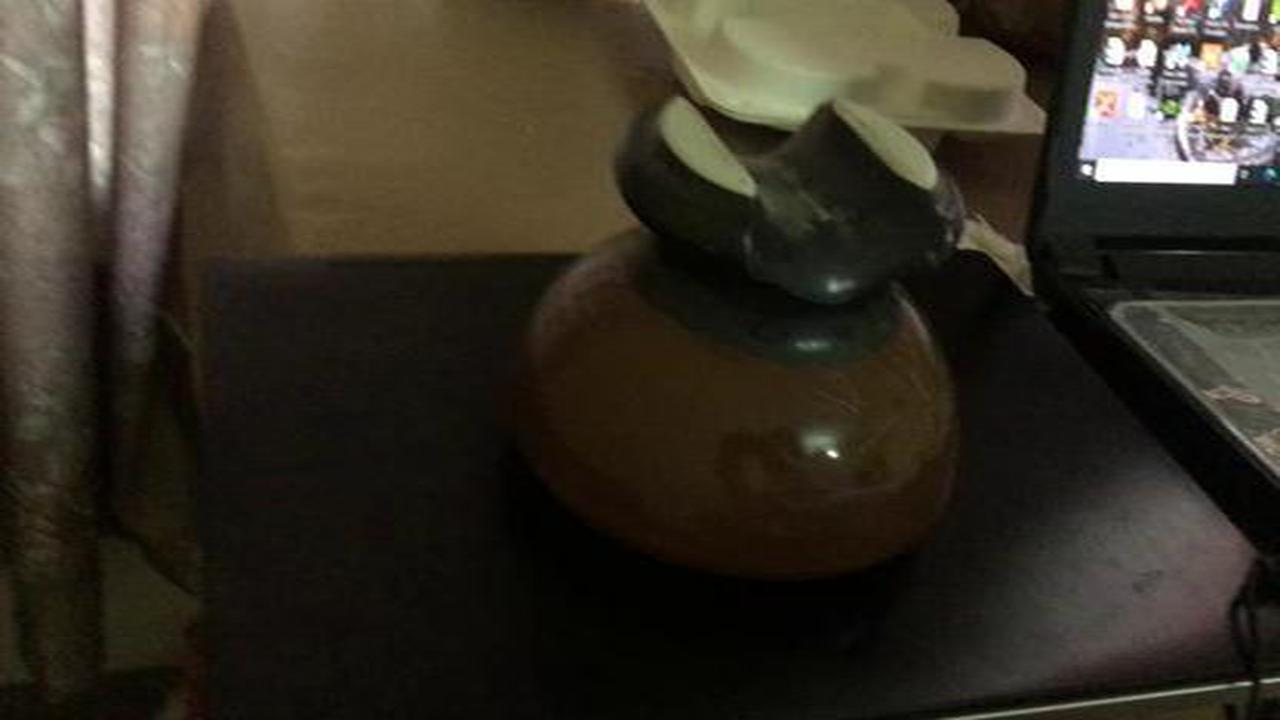insulator_pin: (487, 73, 1019, 603)
